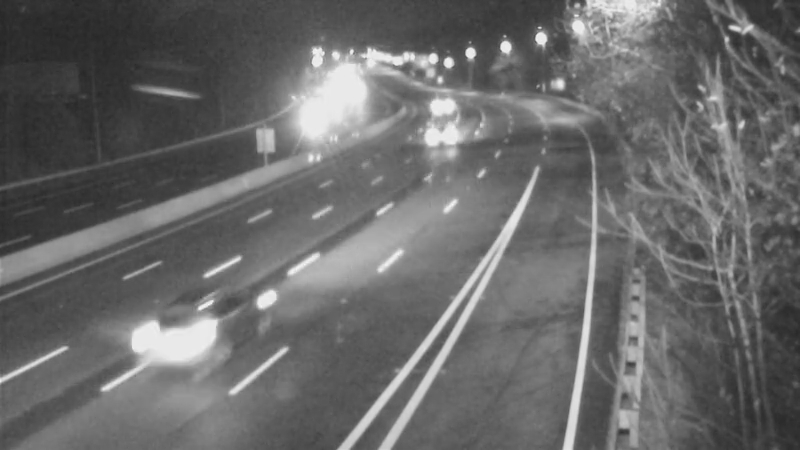vehicle: (139, 277, 249, 387), (407, 73, 457, 123), (422, 107, 472, 157), (276, 104, 326, 154)
